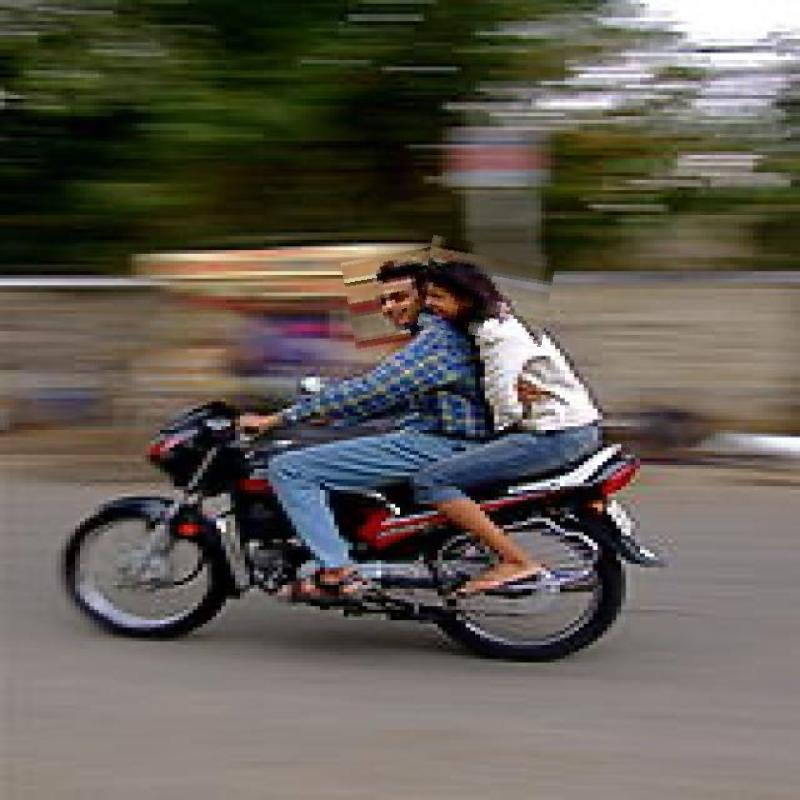nohelmet: (420, 240, 554, 342), (344, 250, 443, 350)
